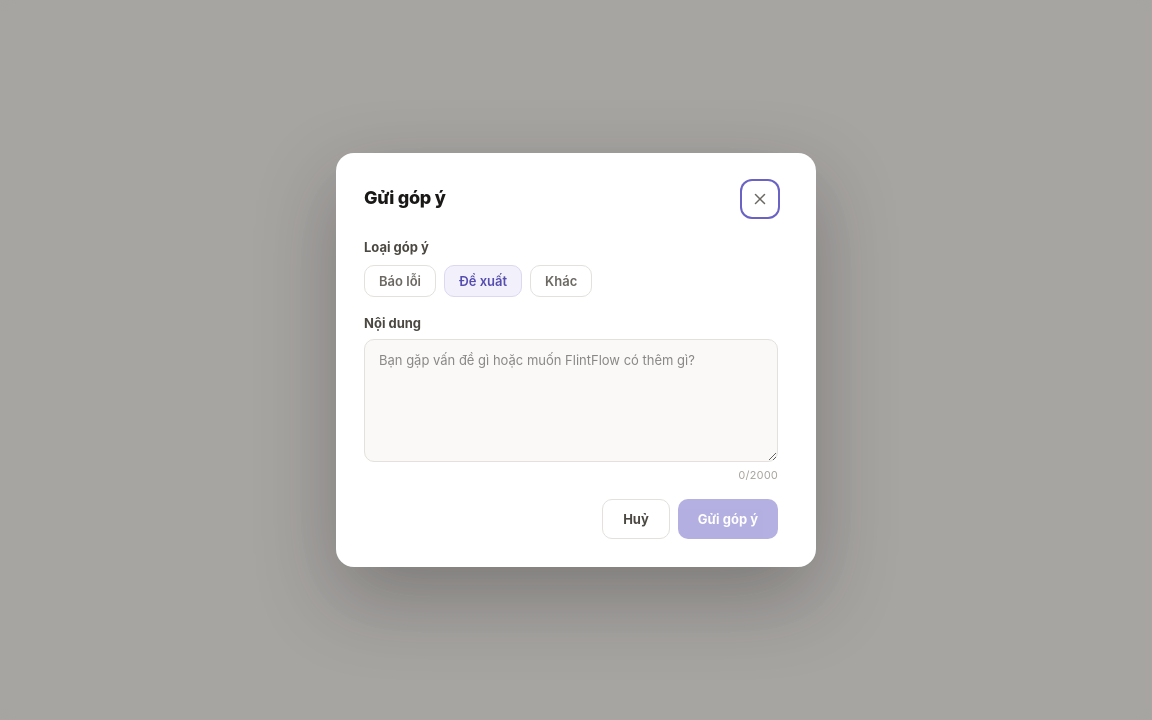
FeedbackDialog (UC-12) › gửi category + message đã trim, xong hiện lời cảm ơn
Click the radio button labelled "Báo lỗi": (400, 281) top-left (364, 265), bottom-right (436, 297)
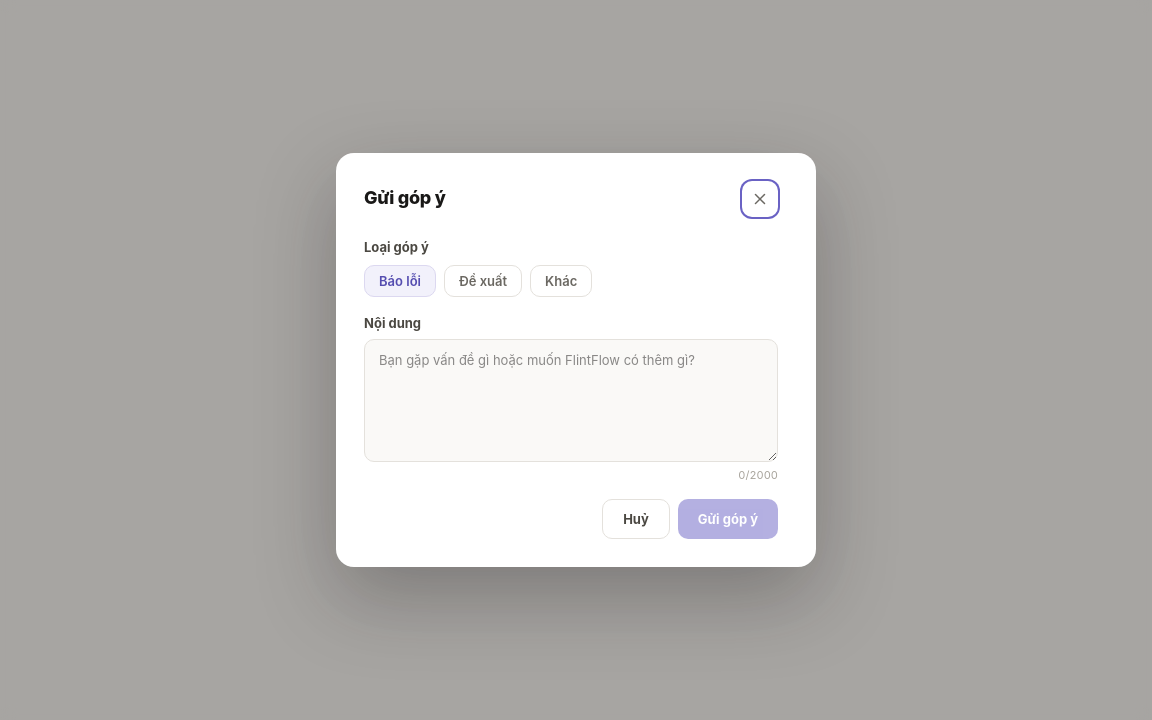
In the text box labelled "Nội dung": (571, 400) top-left (364, 339), bottom-right (778, 462), type "  Nút lưu không chạy  "
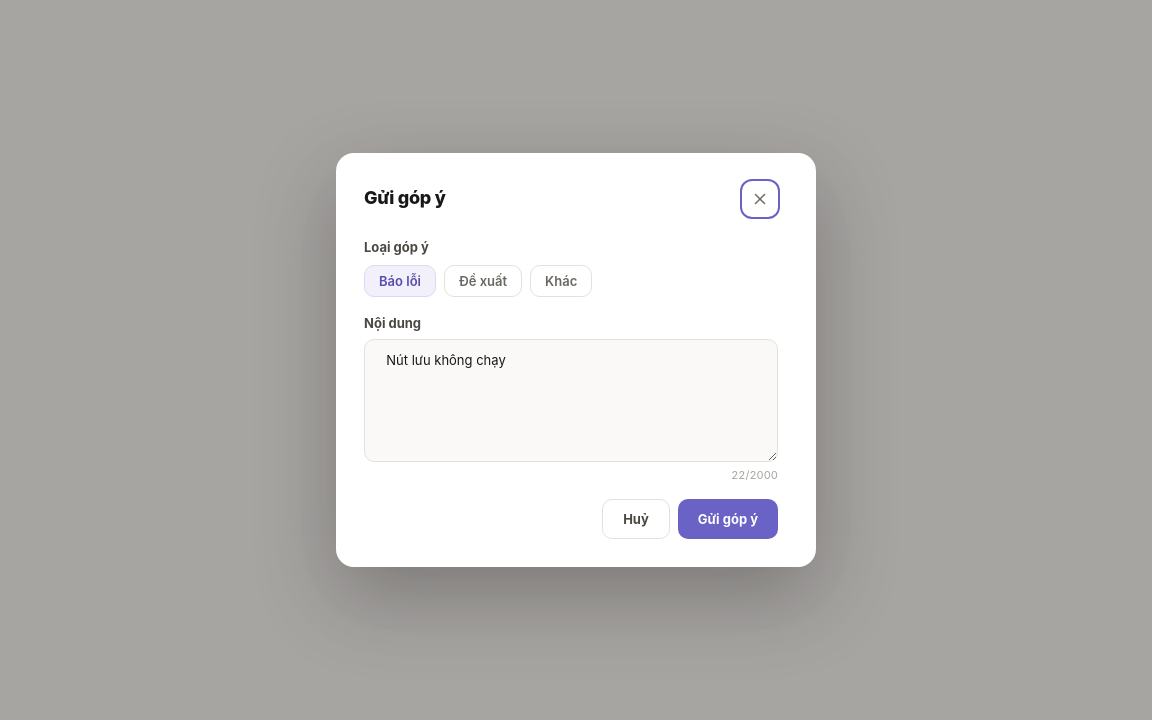
Click the button "Gửi góp ý": (728, 520) top-left (678, 500), bottom-right (778, 540)
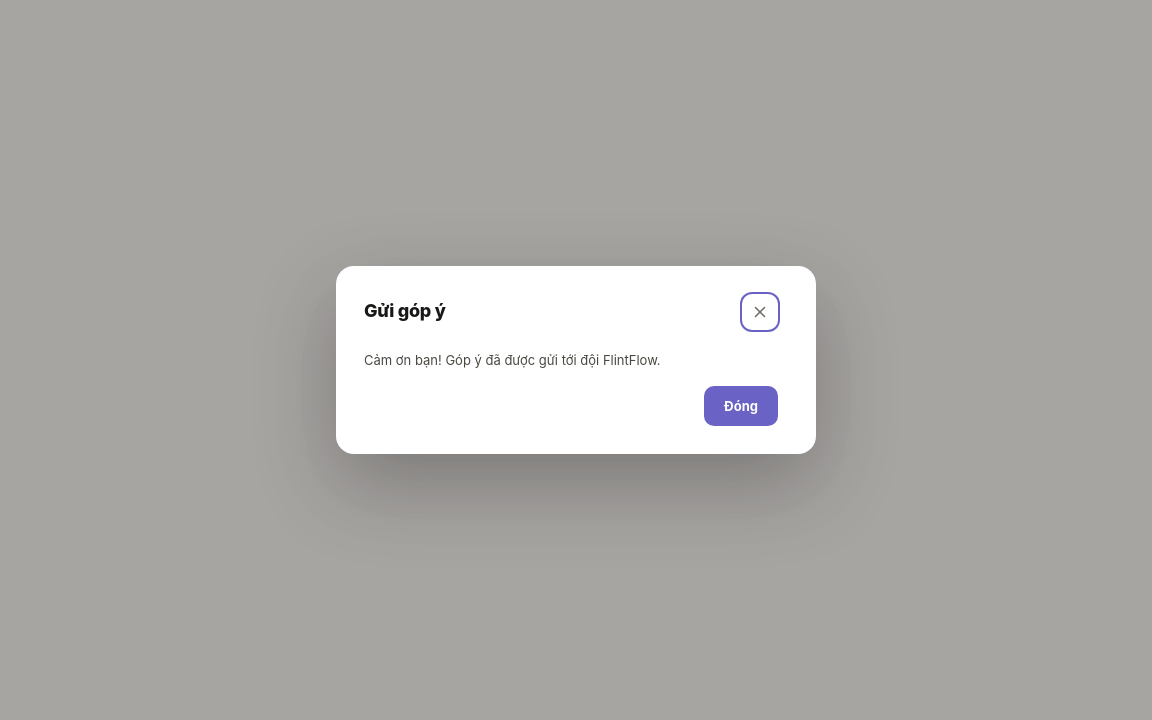
expect the message shows "Cảm ơn bạn": met, box top-left (364, 352), bottom-right (661, 368)
